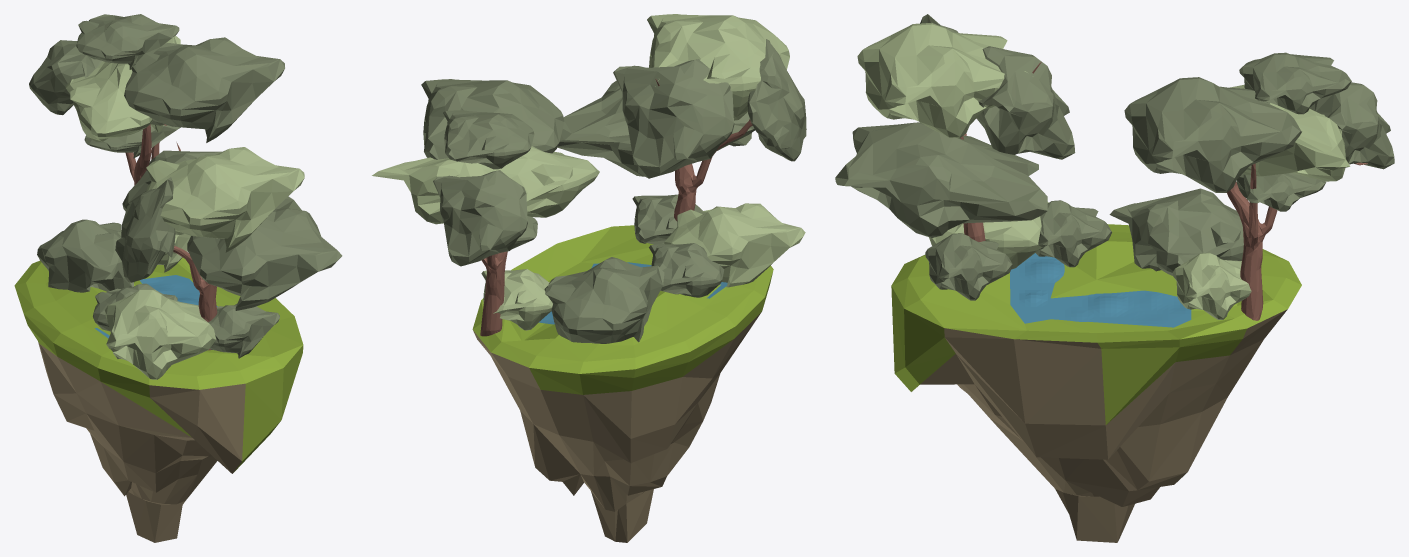
The model's file is float.fbx.
3 views of the same model, side by side, from view 1: azimuth 30°, elevation 25°; view 2: azimuth 150°, elevation 25°; view 3: azimuth 270°, elevation 25° (orthographic). The views are drawn at different scales.
Visible parts, largest first — view 1: pCube13, pCube2, pCube7, pCube10, pCube14, pCube12, pCube5, pCube8, pCube6, pCube3, pCube11, pCube4 (+6 smaller); view 2: pCube13, pCube9, pCube12, pCube7, pCube5, pCube3, pCube14, pCube2, pCube8, pCube10, pCube6, pCube15 (+4 smaller); view 3: pCube13, pCube10, pCube2, pCube7, pCube12, pCube9, pPlane1, pCube6, pCube5, pCube3, pCube11, pCube1 (+4 smaller).
Part boxes in pixels (x1=…): pCube13: x1=14, y1=257, x2=303, y2=542; pCube2: x1=124, y1=37, x2=284, y2=142; pCube7: x1=146, y1=147, x2=304, y2=252; pCube10: x1=187, y1=196, x2=342, y2=310; pCube14: x1=104, y1=289, x2=216, y2=379; pCube12: x1=37, y1=219, x2=134, y2=292; pCube5: x1=65, y1=35, x2=180, y2=141; pCube8: x1=115, y1=177, x2=175, y2=282; pCube6: x1=76, y1=14, x2=179, y2=69; pCube3: x1=29, y1=40, x2=102, y2=115; pCube11: x1=208, y1=303, x2=279, y2=358; pCube4: x1=84, y1=125, x2=180, y2=158; pCube13: x1=472, y1=225, x2=773, y2=542; pCube9: x1=613, y1=59, x2=734, y2=178; pCube12: x1=544, y1=257, x2=664, y2=343; pCube7: x1=647, y1=14, x2=789, y2=120; pCube5: x1=372, y1=146, x2=599, y2=224; pCube3: x1=433, y1=170, x2=527, y2=266; pCube14: x1=664, y1=203, x2=805, y2=287; pCube2: x1=421, y1=79, x2=564, y2=159; pCube8: x1=747, y1=39, x2=806, y2=161; pCube10: x1=557, y1=80, x2=755, y2=176; pCube6: x1=443, y1=110, x2=534, y2=169; pCube15: x1=649, y1=243, x2=724, y2=297; pCube13: x1=891, y1=224, x2=1301, y2=542; pCube10: x1=835, y1=122, x2=1047, y2=237; pCube2: x1=1124, y1=77, x2=1301, y2=192; pCube7: x1=857, y1=22, x2=1027, y2=138; pCube12: x1=1109, y1=188, x2=1243, y2=275; pCube9: x1=976, y1=46, x2=1075, y2=159; pPlane1: x1=1010, y1=253, x2=1191, y2=327; pCube6: x1=1239, y1=52, x2=1351, y2=114; pCube5: x1=1230, y1=84, x2=1350, y2=181; pCube3: x1=1309, y1=82, x2=1394, y2=169; pCube11: x1=925, y1=233, x2=1012, y2=300; pCube1: x1=1172, y1=252, x2=1251, y2=319.
Size of the model in its own units: 122 by 194 by 193.
